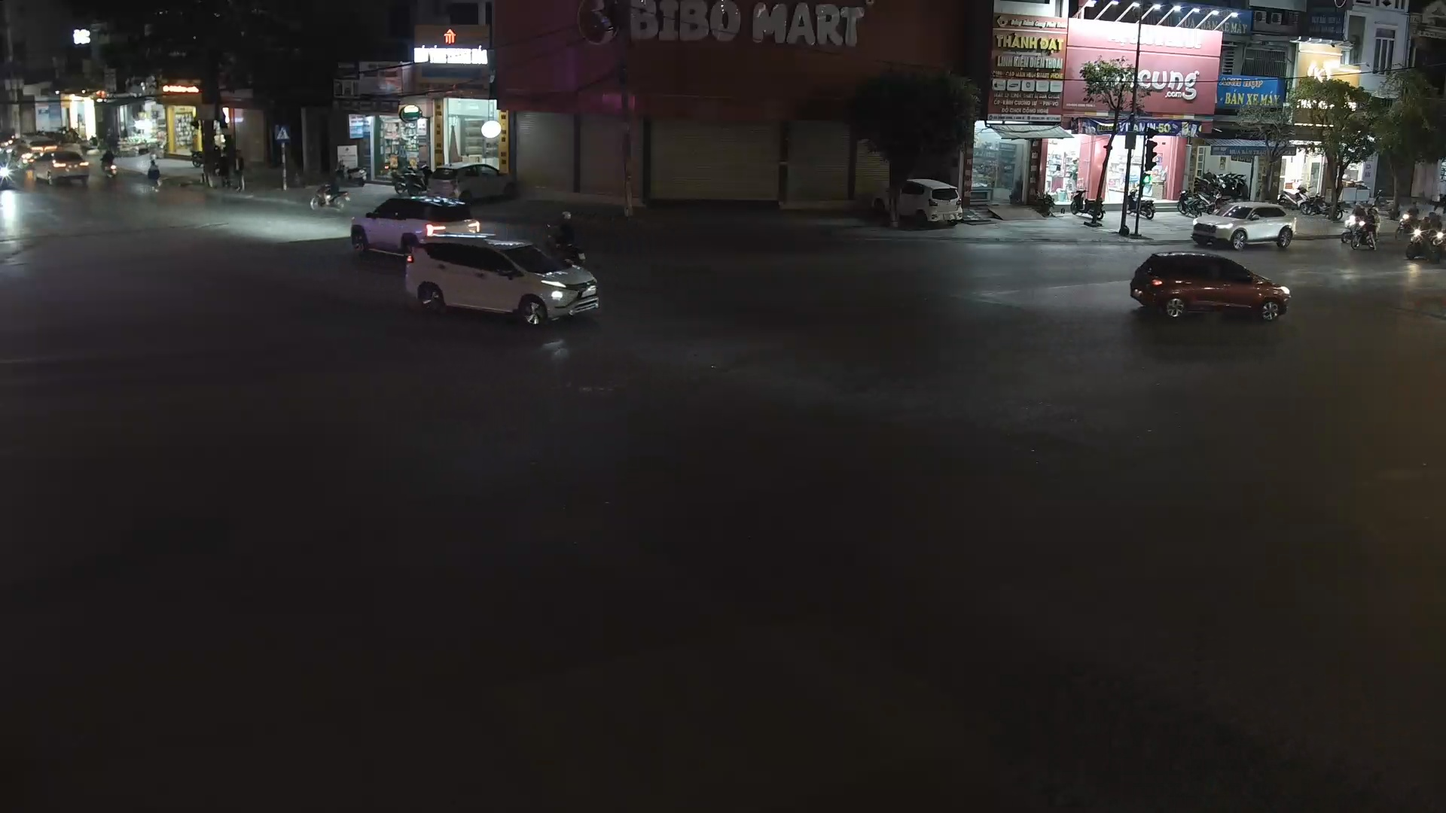car: (403, 225, 603, 328), (1128, 249, 1293, 324), (347, 186, 478, 262), (1191, 201, 1297, 253)
